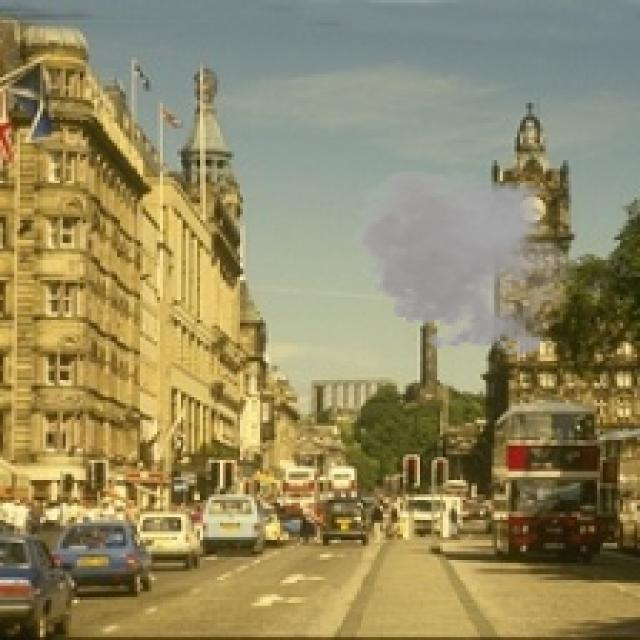Smoke: (343, 163, 583, 363)
